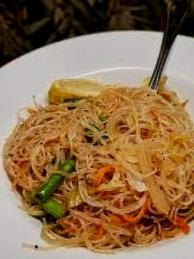pancit bihon: (6, 85, 193, 250)
